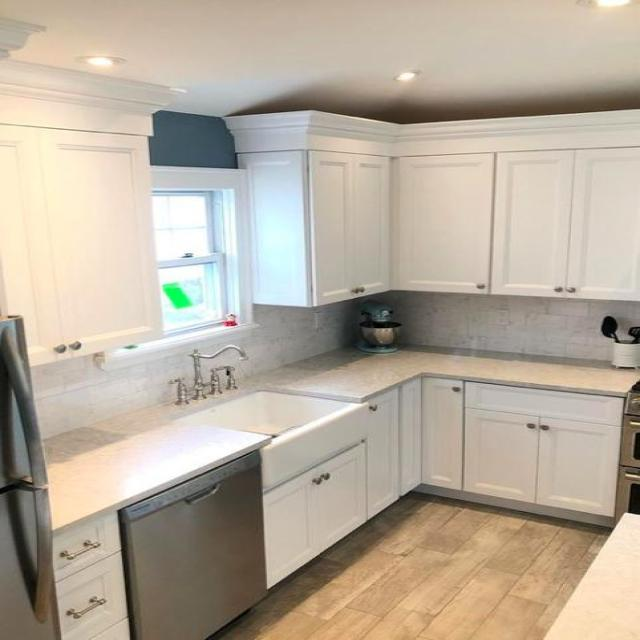dishwasher: (114, 449, 266, 639)
